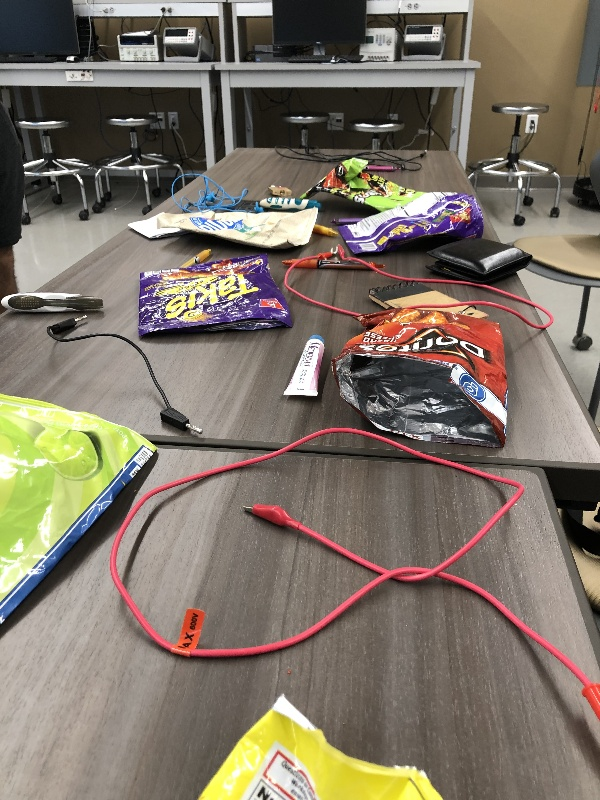bag: (1, 391, 163, 645), (178, 687, 463, 800), (323, 308, 512, 452), (134, 253, 296, 343), (335, 188, 488, 256), (156, 206, 325, 249), (301, 156, 429, 208)
